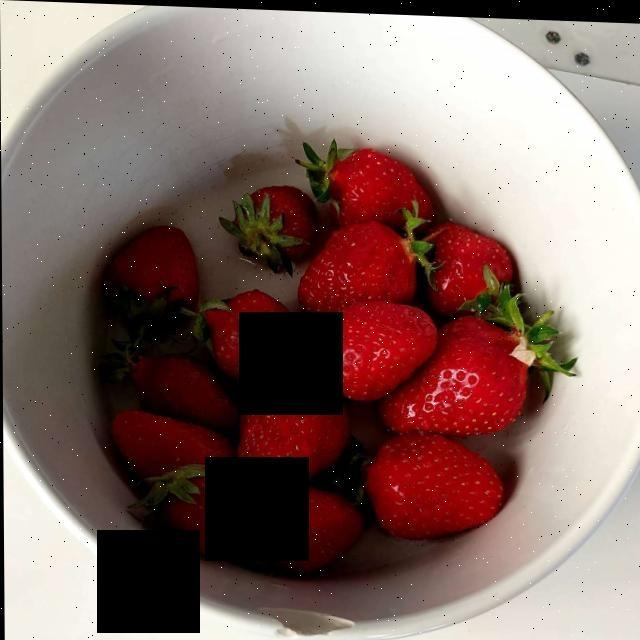strawberries: (80, 140, 566, 561), (102, 145, 554, 563)
